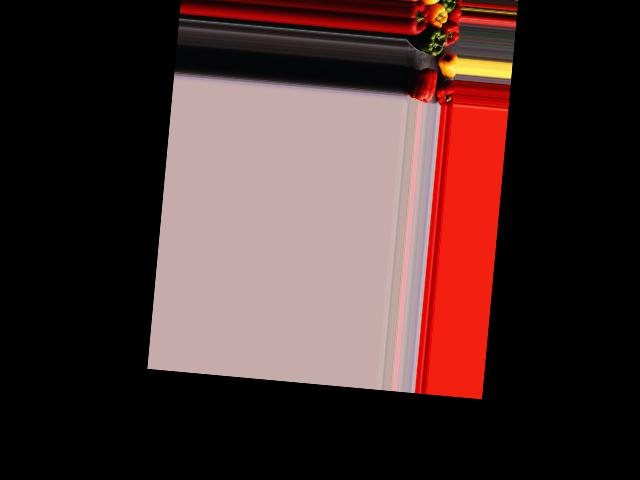bell_pepper: (435, 78, 453, 107)
